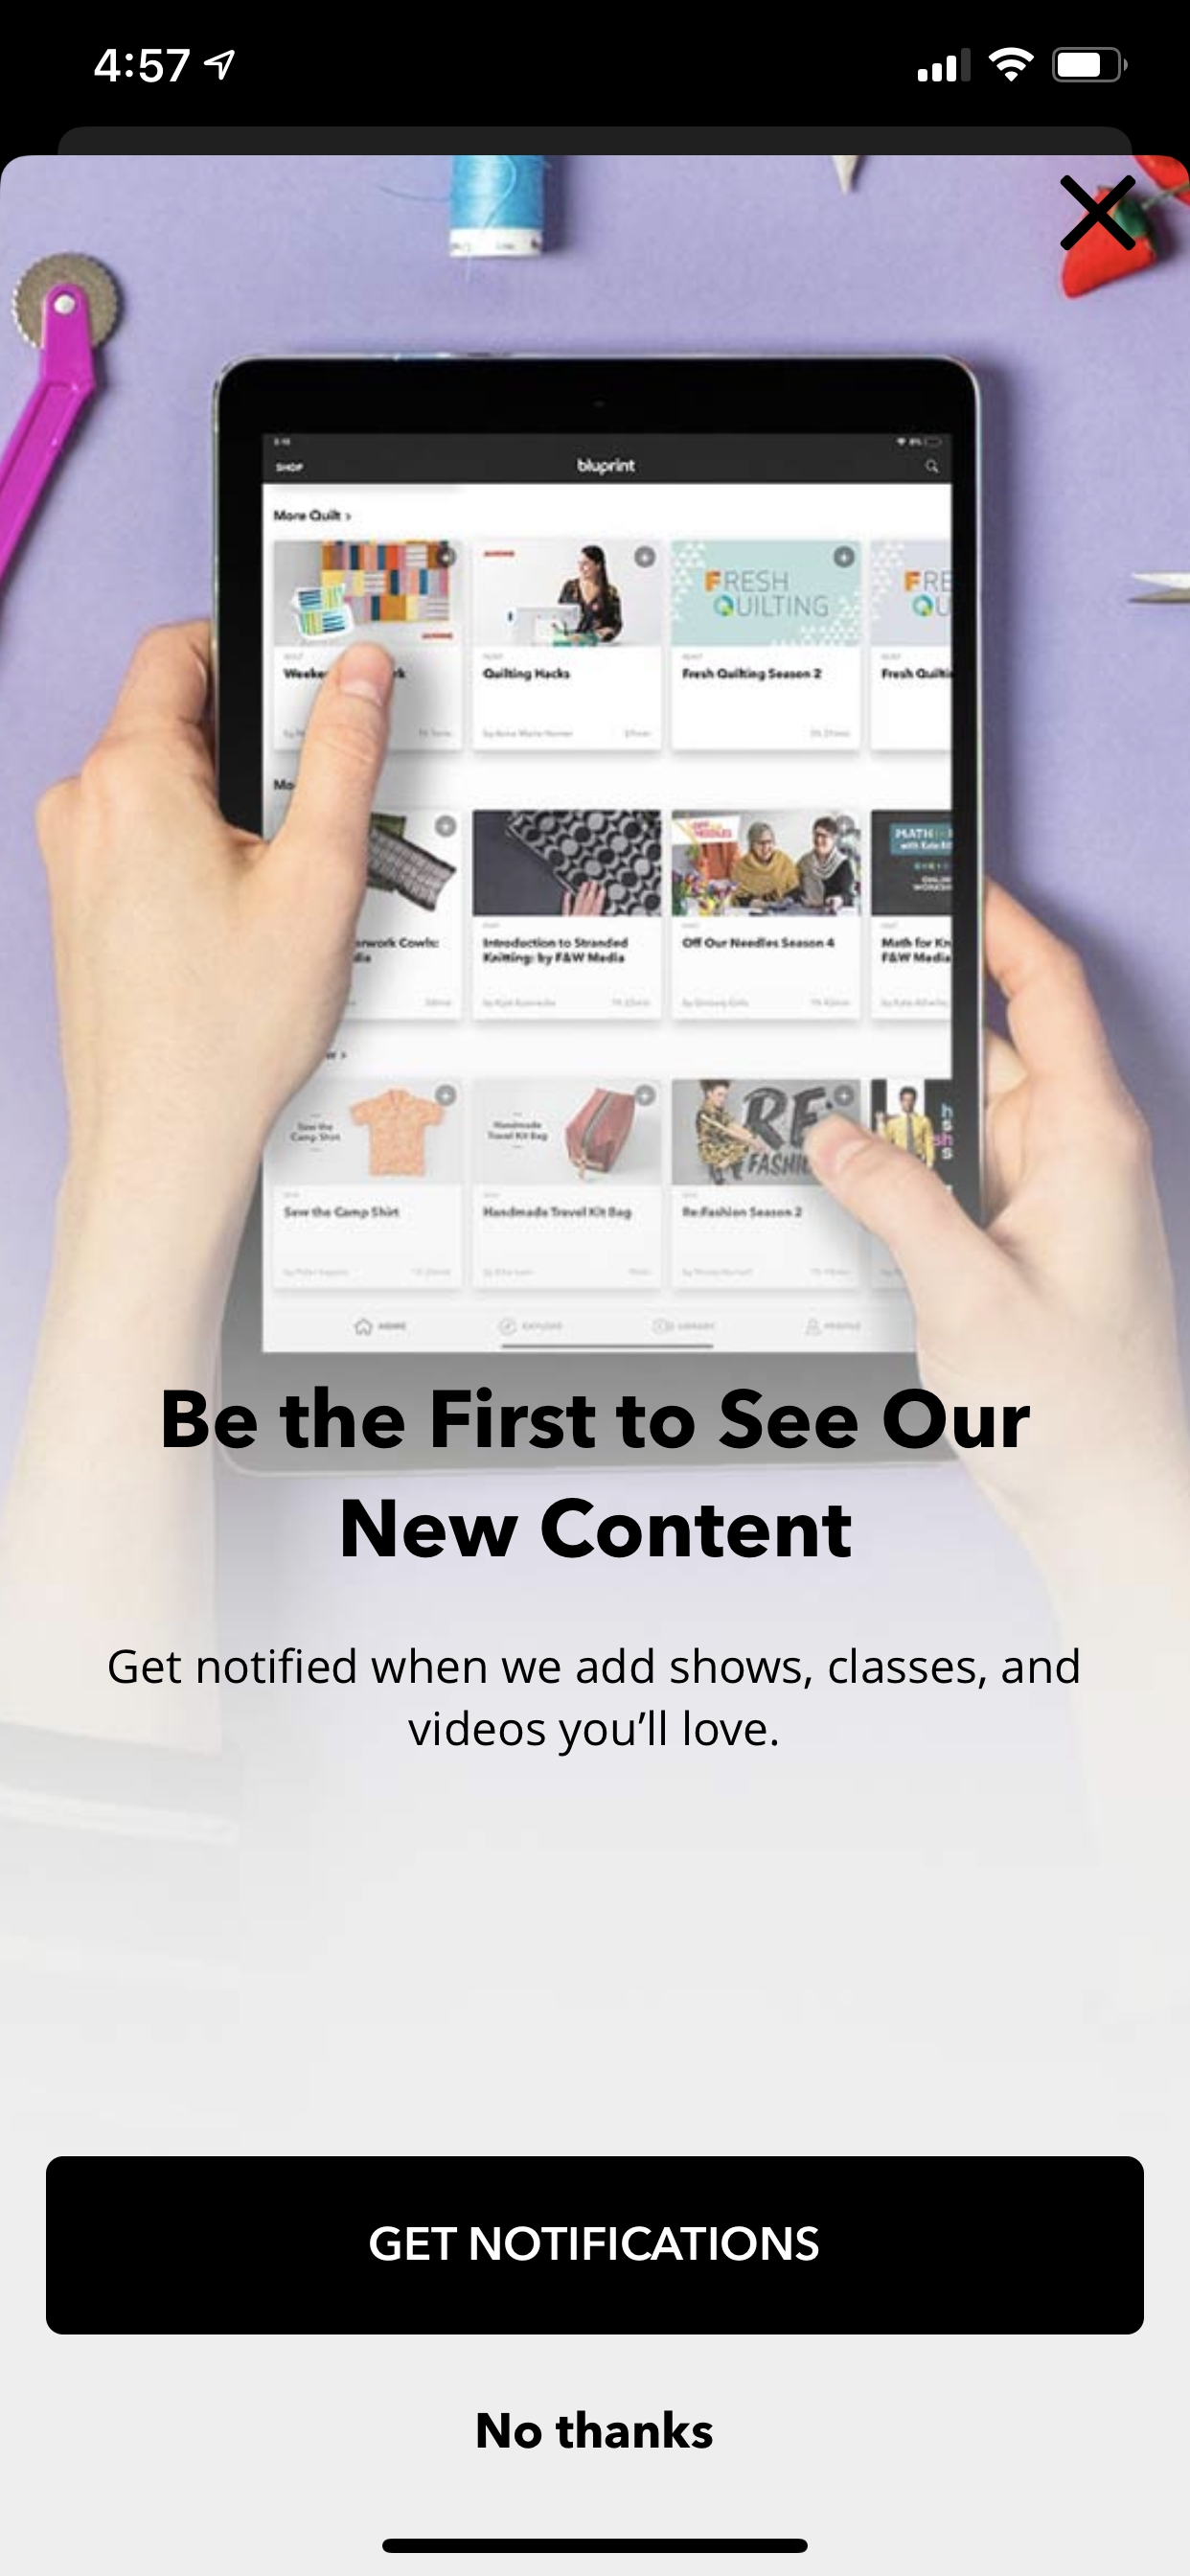BackgroundImage: (2, 154, 1190, 2574)
Icon: (1060, 176, 1136, 251)
Text: (164, 1387, 1031, 1559), (110, 1648, 1078, 1756), (477, 2410, 713, 2448)
TextButton: (48, 2155, 1144, 2334)
UpperTaskBar: (95, 48, 1129, 84)
